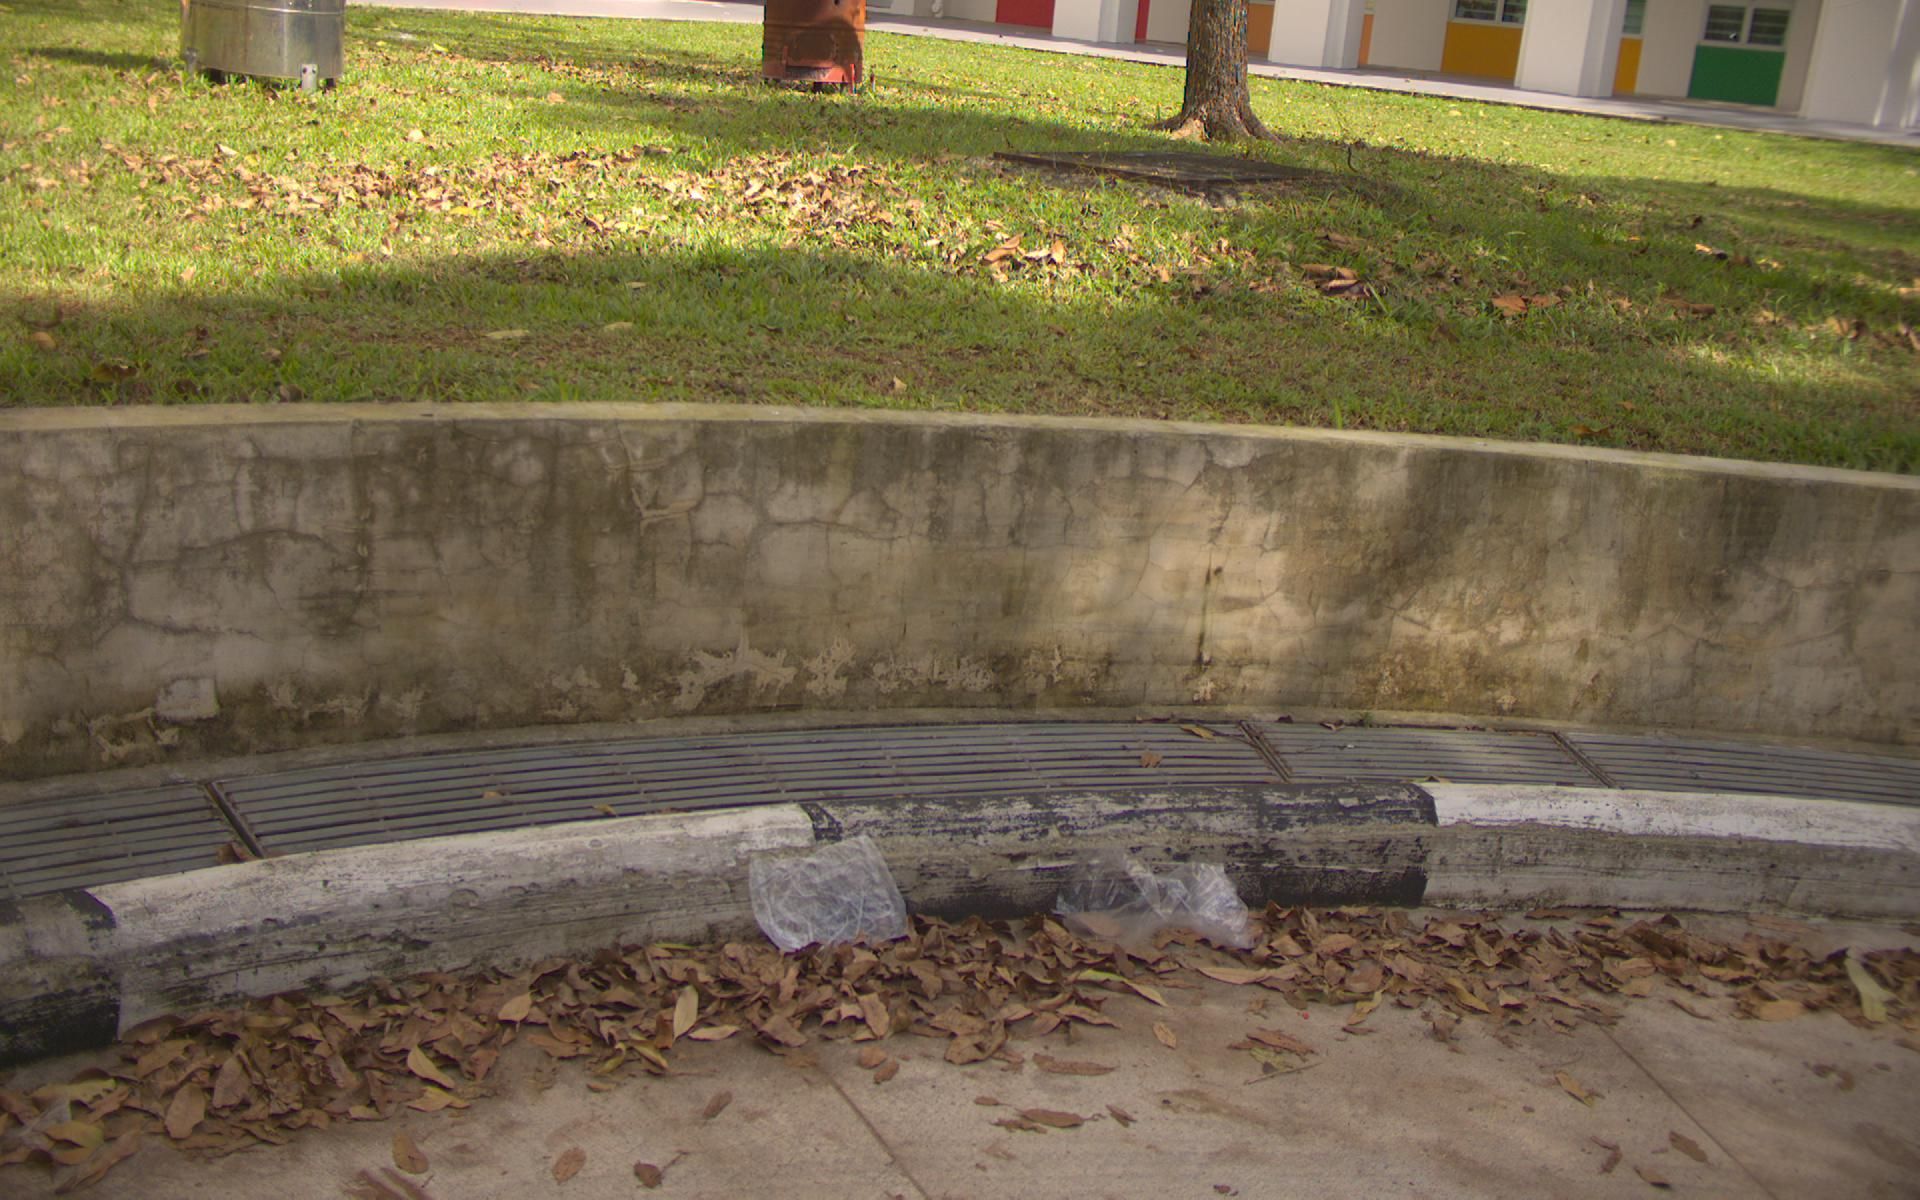curb_dic_low: (827, 704, 1920, 803)
road_curb_medium: (756, 906, 1920, 1069)
road_turf_low: (17, 82, 1914, 390)
